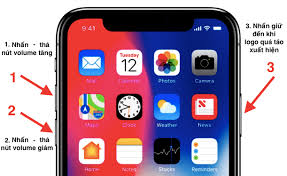iphone: (51, 6, 246, 176)
iphone10: (51, 6, 246, 176)
